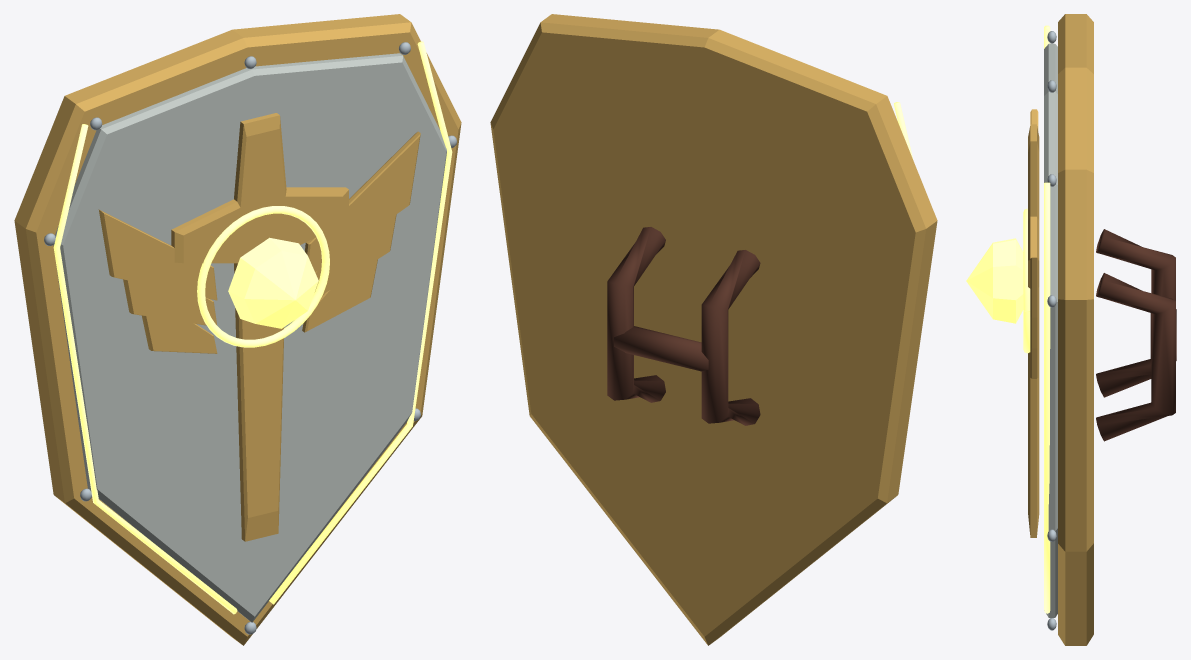
The model's file is wooden-shield-legendary.glb.
3 views of the same model, side by side, from view 1: azimuth 30°, elevation 25°; view 2: azimuth 150°, elevation 25°; view 3: azimuth 270°, elevation 25° (orthographic). The views are drawn at different scales.
Parts seen in each view (by area): view 1: wooden-shield__legendary; view 2: wooden-shield__legendary; view 3: wooden-shield__legendary.
Boxes of the visible parts, bbox=[...] form: wooden-shield__legendary: bbox=[14, 14, 461, 645]; wooden-shield__legendary: bbox=[490, 14, 937, 645]; wooden-shield__legendary: bbox=[966, 14, 1176, 645].
Bounding box in the file's own units: 0.6 × 0.8 × 0.2635.
